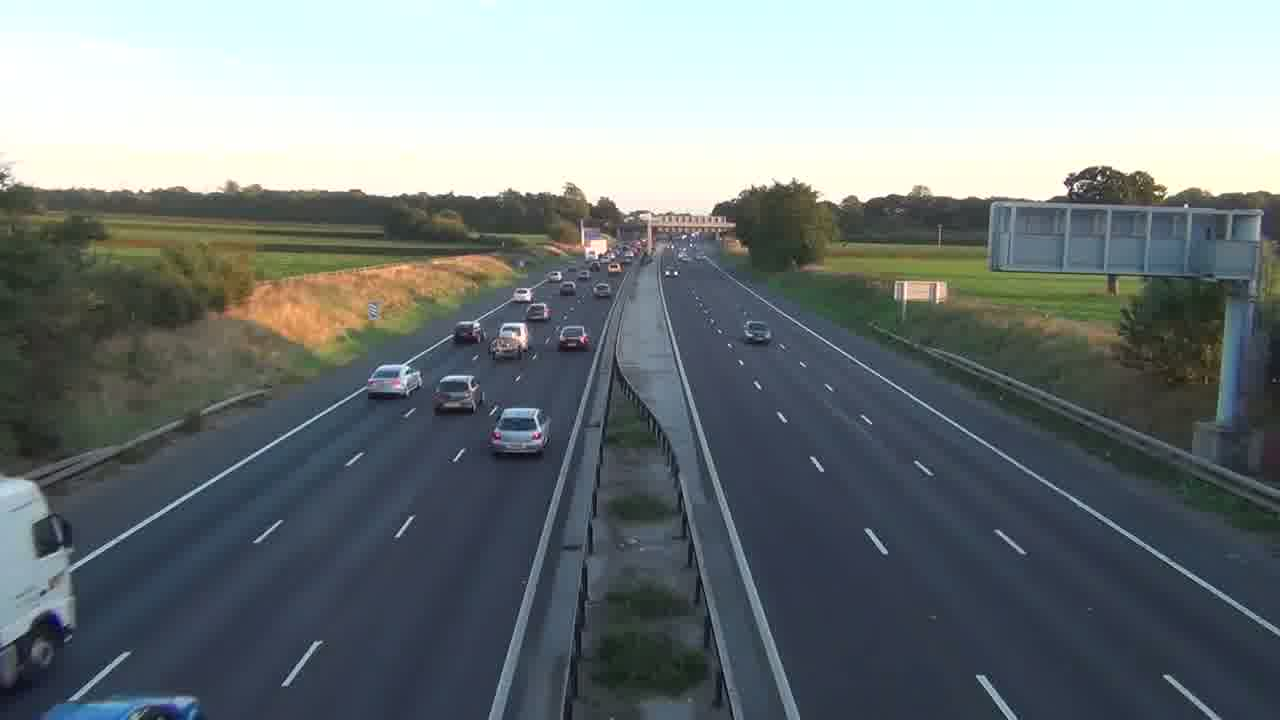car: (488, 406, 551, 456), (432, 373, 482, 415), (366, 363, 422, 400), (557, 323, 592, 351), (453, 320, 483, 344), (743, 321, 772, 343), (592, 281, 612, 299), (511, 287, 532, 302)
truck: (0, 475, 79, 692)
